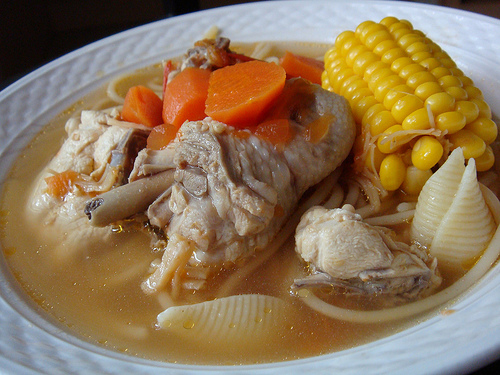corn: (318, 17, 498, 193)
